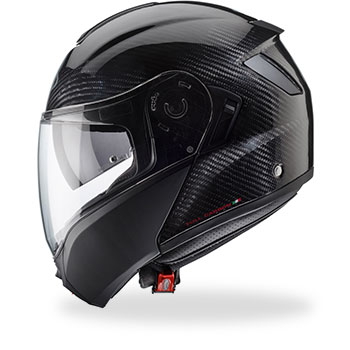with_helmet: (32, 2, 318, 313)
